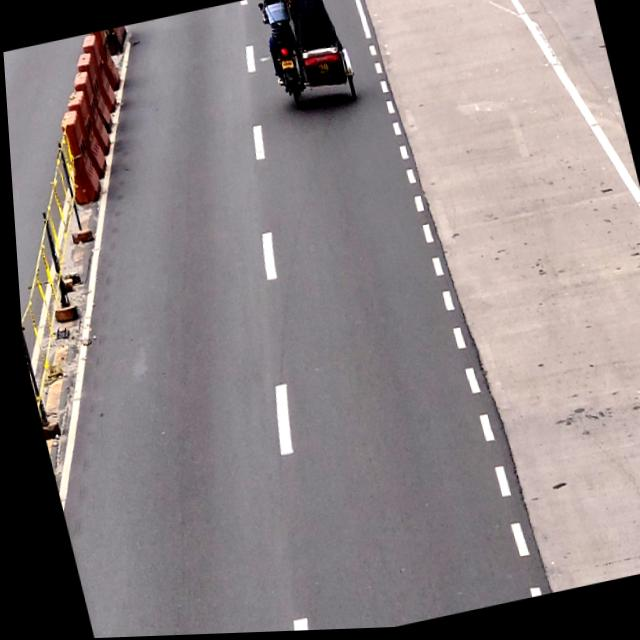Tricycle: (255, 0, 358, 115)
